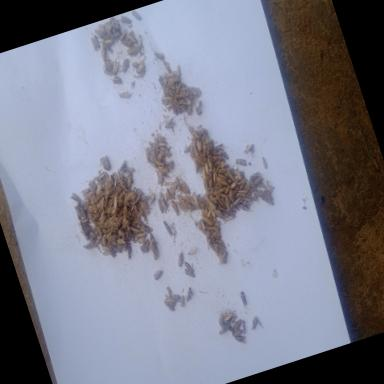pbw: (237, 199, 254, 216), (108, 241, 124, 259), (116, 86, 134, 101), (174, 249, 188, 268), (136, 221, 152, 237), (146, 234, 158, 254), (204, 192, 216, 212), (117, 57, 132, 73), (158, 192, 170, 212), (184, 192, 196, 212), (114, 190, 129, 206), (196, 192, 208, 211), (68, 191, 82, 207), (218, 309, 234, 323), (252, 186, 268, 200), (246, 316, 260, 332), (82, 238, 98, 252), (120, 190, 136, 204), (216, 174, 230, 190), (238, 290, 249, 310), (185, 142, 197, 160), (102, 22, 114, 40), (108, 202, 123, 216), (116, 180, 130, 195), (154, 171, 167, 187), (193, 100, 206, 116), (125, 30, 138, 46), (102, 180, 115, 196), (98, 44, 109, 62), (170, 199, 181, 217), (226, 188, 237, 206), (214, 192, 225, 210), (234, 178, 248, 192), (133, 60, 147, 74), (248, 170, 262, 184), (152, 48, 166, 62), (162, 160, 176, 174), (217, 248, 230, 263), (183, 101, 196, 116), (97, 211, 110, 226), (262, 186, 274, 202), (182, 286, 194, 302), (162, 298, 174, 314), (138, 198, 150, 214), (100, 194, 112, 210), (126, 204, 138, 220), (176, 192, 188, 208), (94, 219, 104, 238), (134, 33, 145, 50), (212, 207, 226, 220), (118, 13, 132, 26), (216, 201, 230, 214), (110, 61, 122, 76), (94, 170, 109, 182), (222, 194, 232, 212), (168, 180, 180, 195), (94, 27, 106, 42), (262, 193, 274, 208), (174, 97, 184, 115), (198, 164, 209, 180), (164, 186, 175, 202), (156, 74, 167, 90), (180, 179, 190, 196), (242, 142, 255, 155), (162, 116, 176, 128), (202, 214, 214, 228), (251, 174, 265, 186), (234, 156, 248, 168), (130, 8, 142, 22), (156, 164, 170, 176), (148, 154, 160, 168), (88, 210, 102, 222), (146, 138, 160, 150), (97, 196, 108, 211), (202, 228, 213, 243), (106, 212, 121, 223), (92, 34, 102, 50), (173, 64, 183, 80), (206, 156, 216, 172), (162, 58, 172, 74), (180, 196, 190, 212), (142, 146, 152, 162), (174, 176, 184, 192), (234, 334, 247, 346), (243, 186, 256, 198), (121, 38, 134, 50), (118, 216, 130, 229), (196, 148, 207, 162), (146, 192, 157, 206), (160, 144, 171, 158), (87, 180, 98, 194), (191, 192, 200, 209), (184, 259, 194, 274), (102, 226, 117, 236), (142, 238, 152, 253), (195, 138, 204, 154), (110, 74, 122, 86), (152, 269, 164, 281), (166, 84, 175, 100), (216, 170, 228, 182), (232, 318, 244, 330), (164, 294, 176, 306), (156, 198, 165, 214), (154, 150, 166, 162), (108, 18, 120, 30), (130, 192, 142, 204), (224, 316, 236, 328), (122, 198, 134, 210), (239, 197, 251, 209), (217, 324, 230, 335), (209, 194, 220, 207), (116, 226, 127, 239), (94, 183, 104, 197), (216, 184, 230, 194), (222, 212, 236, 222), (211, 144, 225, 154), (124, 174, 134, 188), (150, 246, 160, 260), (206, 139, 216, 153), (192, 160, 202, 174), (235, 187, 249, 197), (177, 296, 187, 310), (110, 195, 120, 209), (124, 246, 134, 260), (162, 220, 172, 234), (126, 46, 140, 56), (120, 204, 130, 218), (166, 76, 180, 86), (94, 198, 104, 212), (265, 179, 274, 194), (239, 320, 248, 335), (115, 169, 124, 184), (100, 243, 112, 254), (102, 67, 114, 78), (106, 232, 118, 243), (198, 132, 210, 143), (148, 158, 159, 170), (104, 196, 116, 207), (86, 202, 98, 213), (231, 328, 244, 338), (134, 230, 147, 240), (184, 267, 194, 280), (149, 146, 159, 159), (104, 58, 114, 71), (90, 36, 98, 52), (192, 142, 200, 158), (234, 168, 243, 182), (260, 155, 269, 169), (206, 174, 215, 188), (111, 179, 120, 193), (202, 160, 211, 174), (129, 224, 140, 235), (117, 160, 128, 171), (230, 196, 242, 206), (118, 28, 128, 40), (204, 222, 216, 232), (214, 188, 224, 200), (188, 86, 198, 98), (217, 315, 226, 328), (153, 134, 166, 143), (170, 102, 178, 116), (212, 242, 220, 256), (78, 222, 86, 236), (208, 228, 216, 242), (203, 209, 213, 220), (186, 246, 197, 256), (256, 180, 267, 190), (178, 102, 189, 112), (241, 194, 252, 204), (211, 158, 222, 168), (86, 189, 96, 200), (88, 225, 98, 236), (210, 171, 219, 183), (80, 186, 92, 195), (78, 197, 90, 206), (216, 166, 228, 175), (169, 293, 181, 302), (160, 95, 172, 104), (174, 82, 182, 95), (185, 86, 193, 99), (74, 204, 82, 217), (80, 206, 88, 219), (91, 238, 101, 248), (138, 68, 148, 78), (216, 160, 226, 170), (192, 128, 202, 138), (212, 226, 222, 236), (216, 242, 226, 252), (88, 232, 98, 242), (214, 236, 224, 246), (115, 237, 126, 246), (195, 219, 204, 230), (135, 235, 146, 244), (165, 285, 173, 297), (190, 198, 198, 210), (228, 172, 236, 184), (162, 180, 174, 188), (238, 170, 246, 182), (208, 241, 216, 253), (224, 208, 236, 216), (217, 251, 225, 263), (203, 142, 211, 154), (250, 194, 260, 203), (111, 30, 121, 39), (220, 151, 229, 161), (131, 60, 141, 69), (178, 80, 187, 90), (136, 208, 145, 218), (187, 125, 195, 136), (172, 97, 180, 108), (124, 226, 132, 237), (220, 196, 228, 207), (201, 144, 208, 156), (109, 174, 116, 186), (101, 249, 111, 257), (156, 140, 166, 148), (97, 24, 105, 34), (164, 71, 174, 79), (172, 92, 182, 100), (100, 236, 108, 246), (80, 216, 90, 224), (222, 170, 232, 178), (90, 196, 100, 204), (161, 88, 169, 98), (206, 153, 214, 163), (240, 168, 248, 178), (176, 98, 186, 106), (212, 153, 222, 161), (202, 180, 210, 190), (244, 180, 252, 190), (182, 146, 191, 154), (213, 221, 222, 229), (223, 186, 231, 195), (130, 219, 138, 228), (215, 203, 223, 212), (211, 214, 218, 224), (165, 102, 173, 110), (226, 324, 234, 332), (231, 204, 239, 212), (228, 182, 236, 190), (218, 191, 226, 199), (103, 38, 113, 44), (200, 219, 206, 229), (194, 132, 201, 140)
